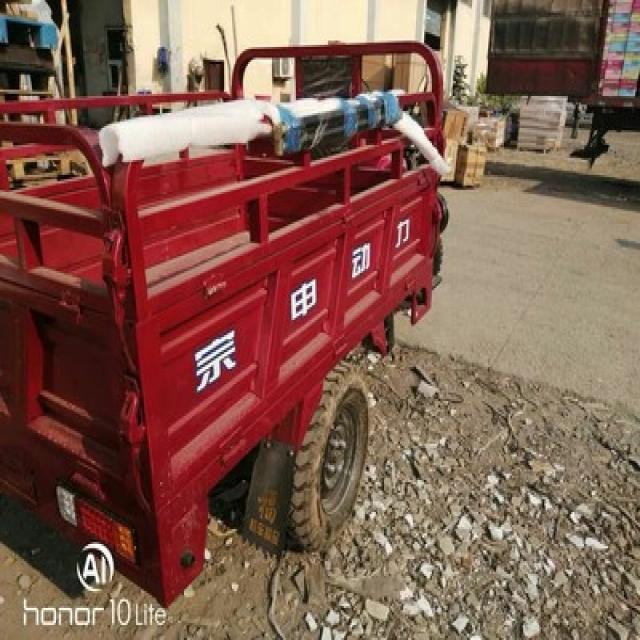tricycle: (2, 34, 448, 610)
